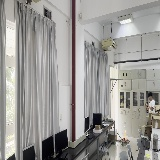fire: (122, 129, 127, 140)
